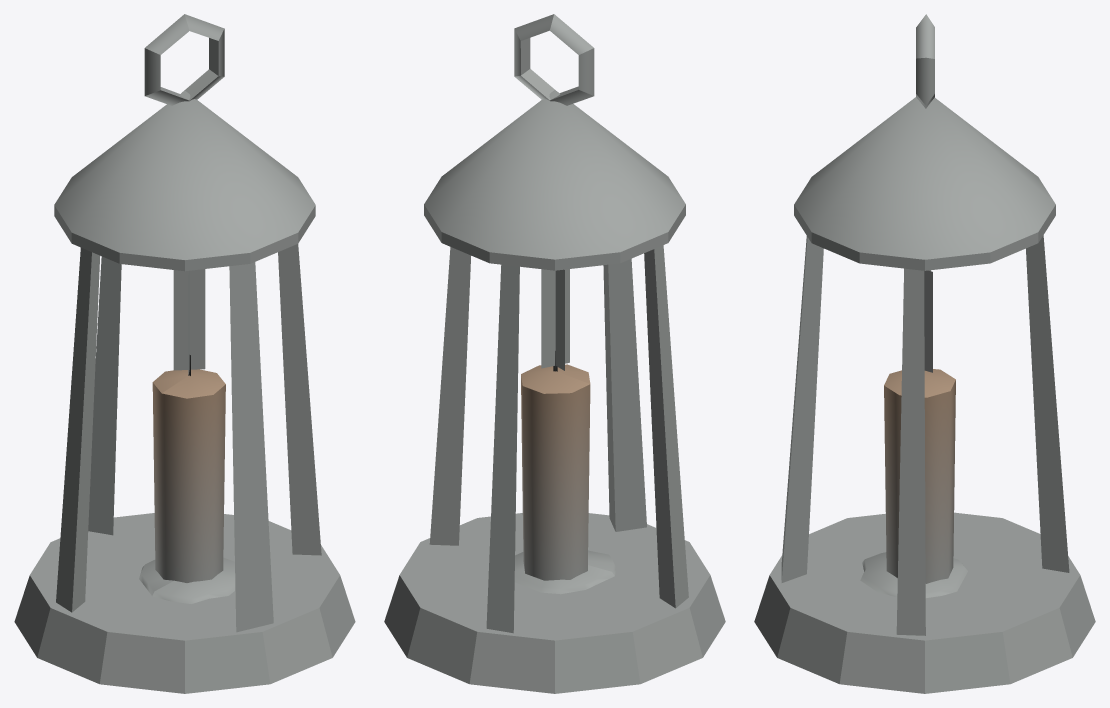
3 renders of one model, left to right at view 1: azimuth 30°, elevation 25°; view 2: azimuth 150°, elevation 25°; view 3: azimuth 270°, elevation 25°, orthographic.
Parts seen in each view (by area): view 1: G:\FFXIV-MapTools\exports\n4f5\bg\ex3\01_nvt_n4\fld\n4f5\bgp (×3); view 2: G:\FFXIV-MapTools\exports\n4f5\bg\ex3\01_nvt_n4\fld\n4f5\bgp (×3); view 3: G:\FFXIV-MapTools\exports\n4f5\bg\ex3\01_nvt_n4\fld\n4f5\bgp (×3).
Part boxes in pixels (x1,y1,x2,y2): G:\FFXIV-MapTools\exports\n4f5\bg\ex3\01_nvt_n4\fld\n4f5\bgp (×3): [14, 14, 355, 693]; G:\FFXIV-MapTools\exports\n4f5\bg\ex3\01_nvt_n4\fld\n4f5\bgp (×3): [384, 14, 725, 693]; G:\FFXIV-MapTools\exports\n4f5\bg\ex3\01_nvt_n4\fld\n4f5\bgp (×3): [754, 14, 1095, 693].
Size of the model in its own units: 0.293 by 0.5754 by 0.293.
